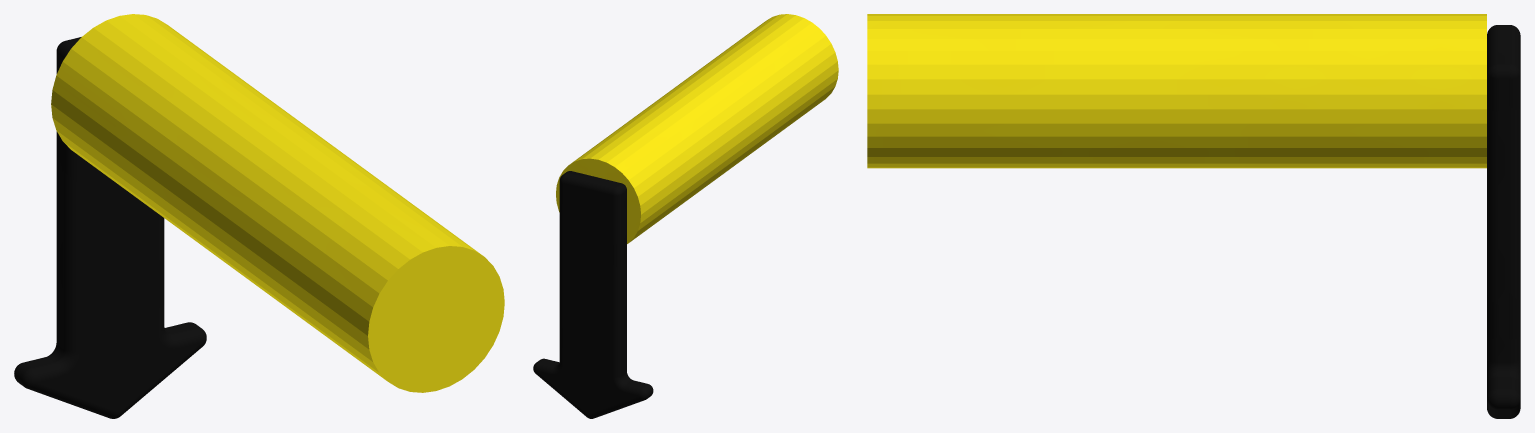
The model's file is MANECILLAS.obj.
3 views of the same model, side by side, from view 1: azimuth 30°, elevation 25°; view 2: azimuth 150°, elevation 25°; view 3: azimuth 270°, elevation 25° (orthographic). The views are drawn at different scales.
Parts seen in each view (by area): view 1: uploads_files_2780780_Modern+Arrow; view 2: uploads_files_2780780_Modern+Arrow; view 3: uploads_files_2780780_Modern+Arrow.
Part boxes in pixels (box(x1,y1,x2,y2)): uploads_files_2780780_Modern+Arrow: box(14, 14, 504, 418); uploads_files_2780780_Modern+Arrow: box(533, 14, 838, 418); uploads_files_2780780_Modern+Arrow: box(867, 14, 1520, 418).
Size of the model in its own units: 0.0337 by 0.071 by 0.1059.
Materials: 1 (1 with a texture image).
